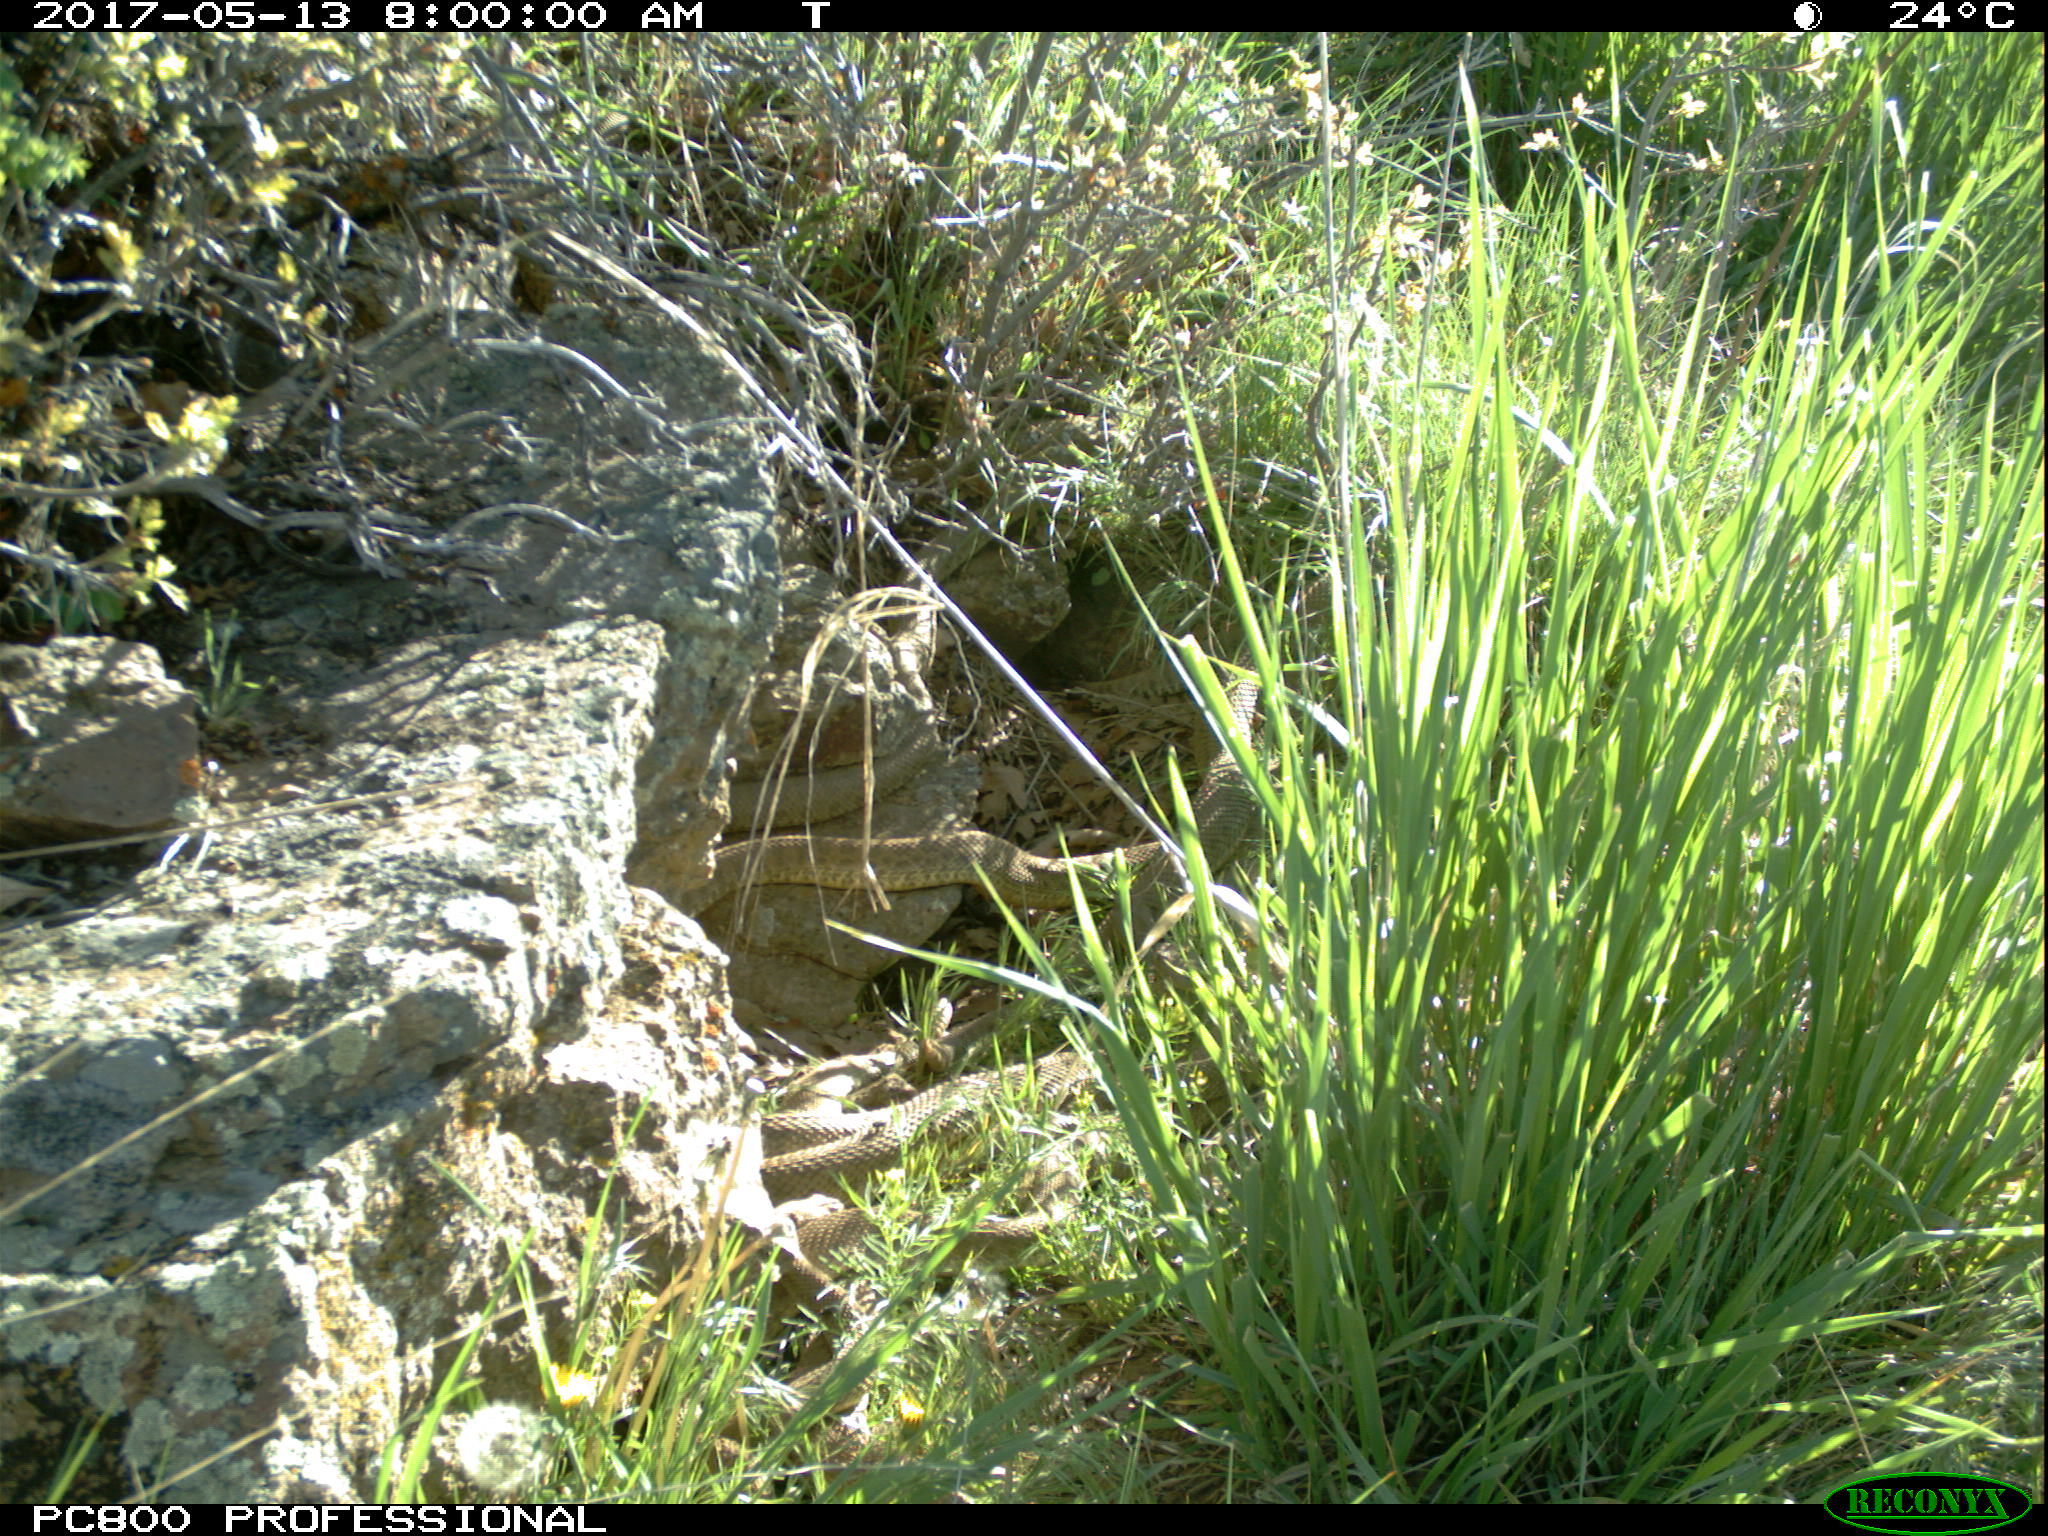snake: (671, 836, 1184, 905), (772, 1029, 906, 1257), (868, 1058, 1143, 1152), (784, 1199, 889, 1417), (964, 1149, 1101, 1249), (731, 753, 947, 816), (1195, 663, 1259, 863)
